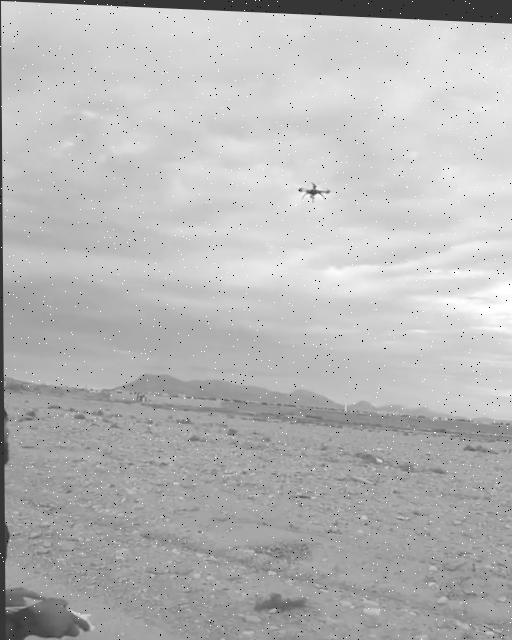drone: (291, 173, 333, 203)
